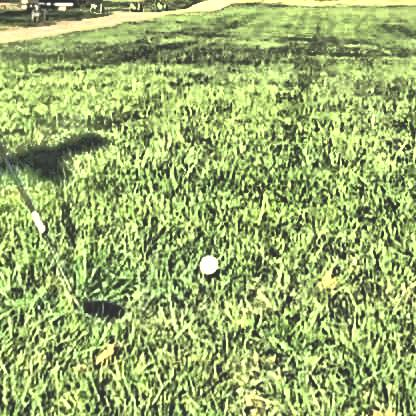golfball: (196, 251, 217, 272)
